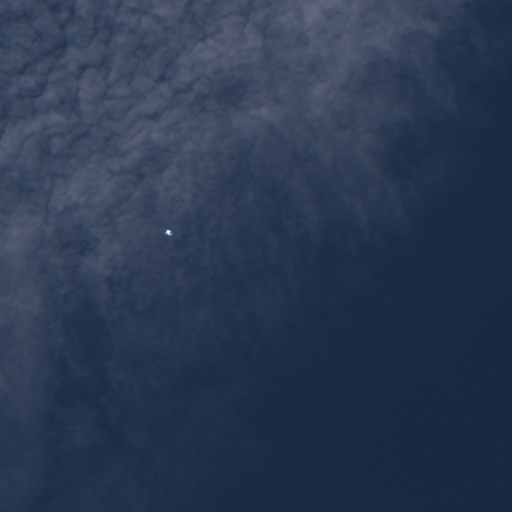Iceberg: (165, 229, 172, 235)
